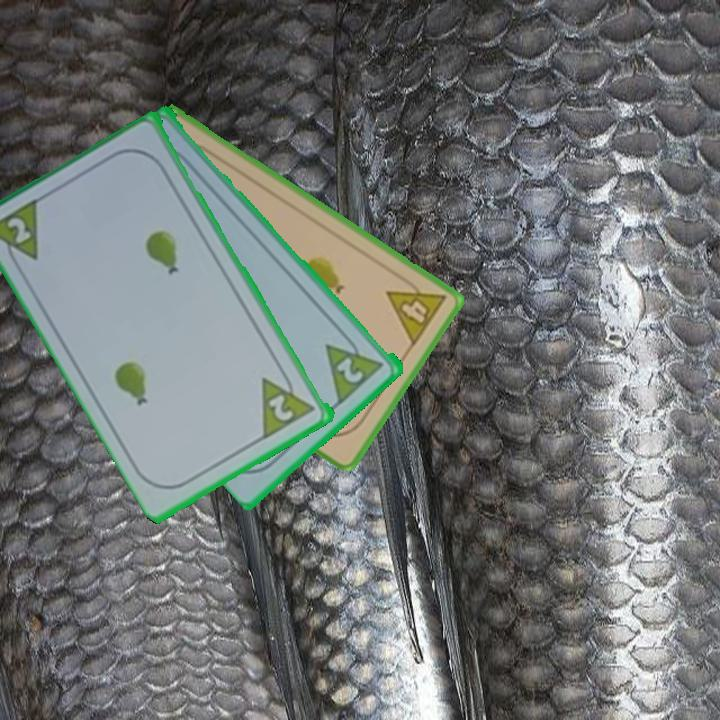2p: (322, 327, 388, 406), (258, 364, 319, 441), (4, 213, 35, 247)
4p: (383, 270, 449, 349)
